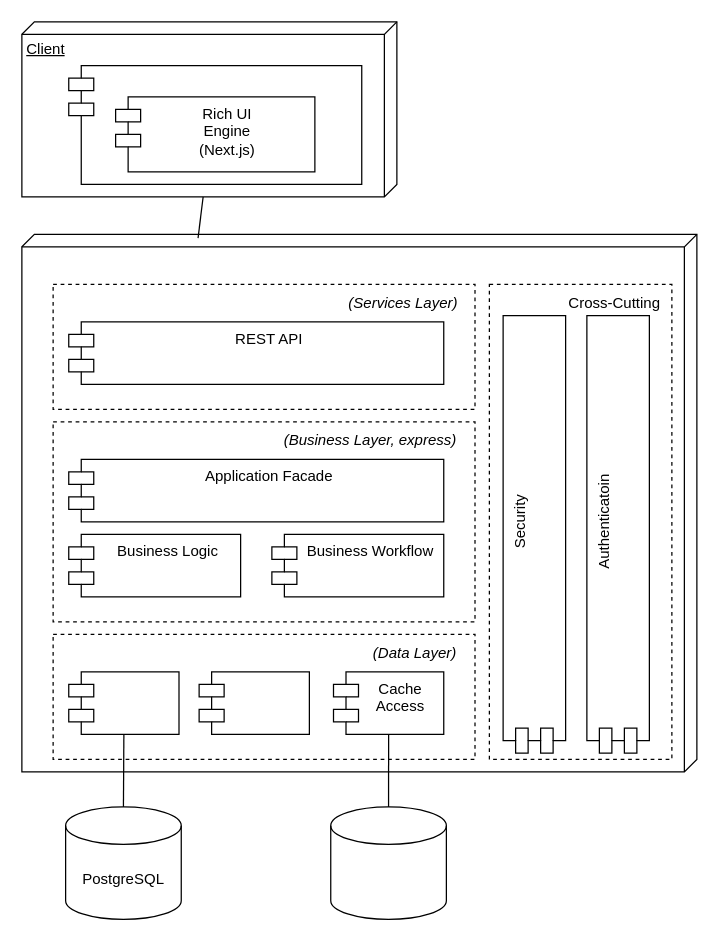
Some shapes in this 719 by 941 pixel diagram are drawn without their labels. The box of each missing label's shape, as (x1, y1, x2, y2) in pixels:
Browser: (68, 64, 362, 184)
Data Access: (68, 671, 179, 734)
Helpers & Utilities: (198, 671, 309, 734)
Redis: (330, 806, 446, 919)
Server: (21, 233, 697, 772)
